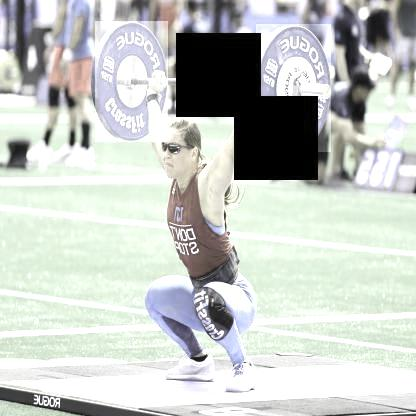barbell: (255, 26, 329, 154), (94, 22, 166, 143)
